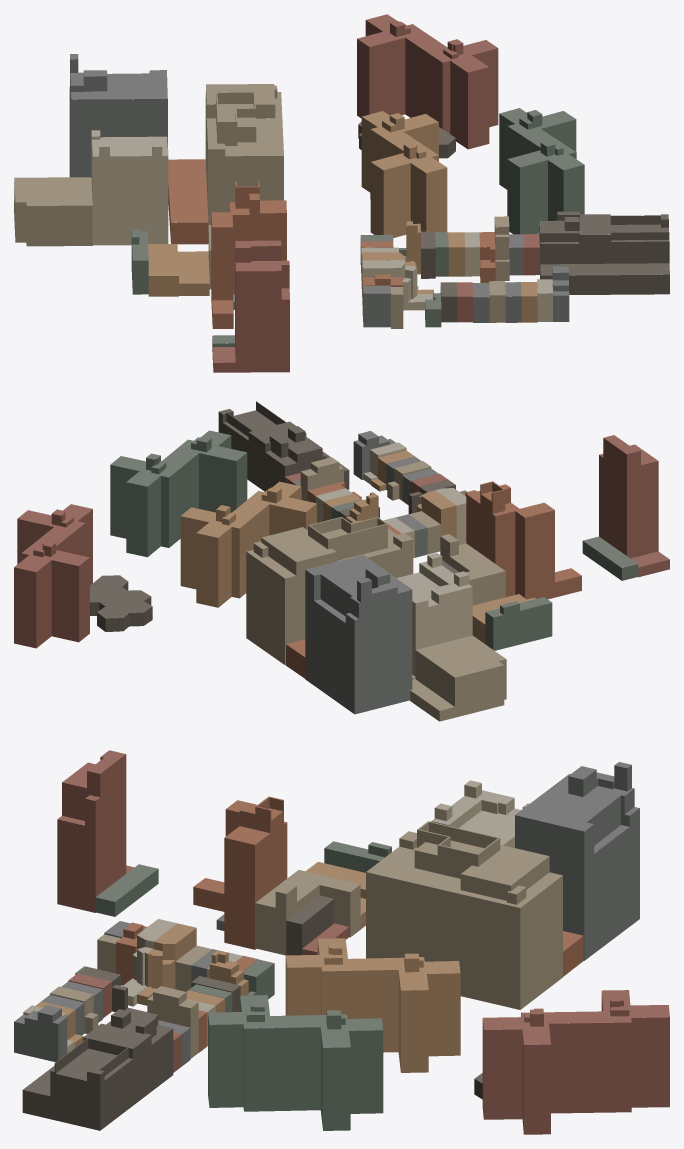
Rendered from tile--3_-11.glb.
3 renders of one model, top to bottom at view 1: azimuth 30°, elevation 25°; view 2: azimuth 150°, elevation 25°; view 3: azimuth 270°, elevation 25°, orthographic. The views are drawn at different scales.
Visible parts, largest first — view 1: wall, roof; view 2: wall, roof; view 3: wall, roof.
Boxes of the visible parts, x1,y1,x2,y2 form: wall: [14, 20, 669, 372]; roof: [14, 14, 669, 362]; wall: [14, 402, 669, 721]; roof: [14, 401, 669, 710]; wall: [14, 754, 669, 1134]; roof: [14, 750, 669, 1095].
Bounding box in the file's own units: 221 × 58.09 × 223.
